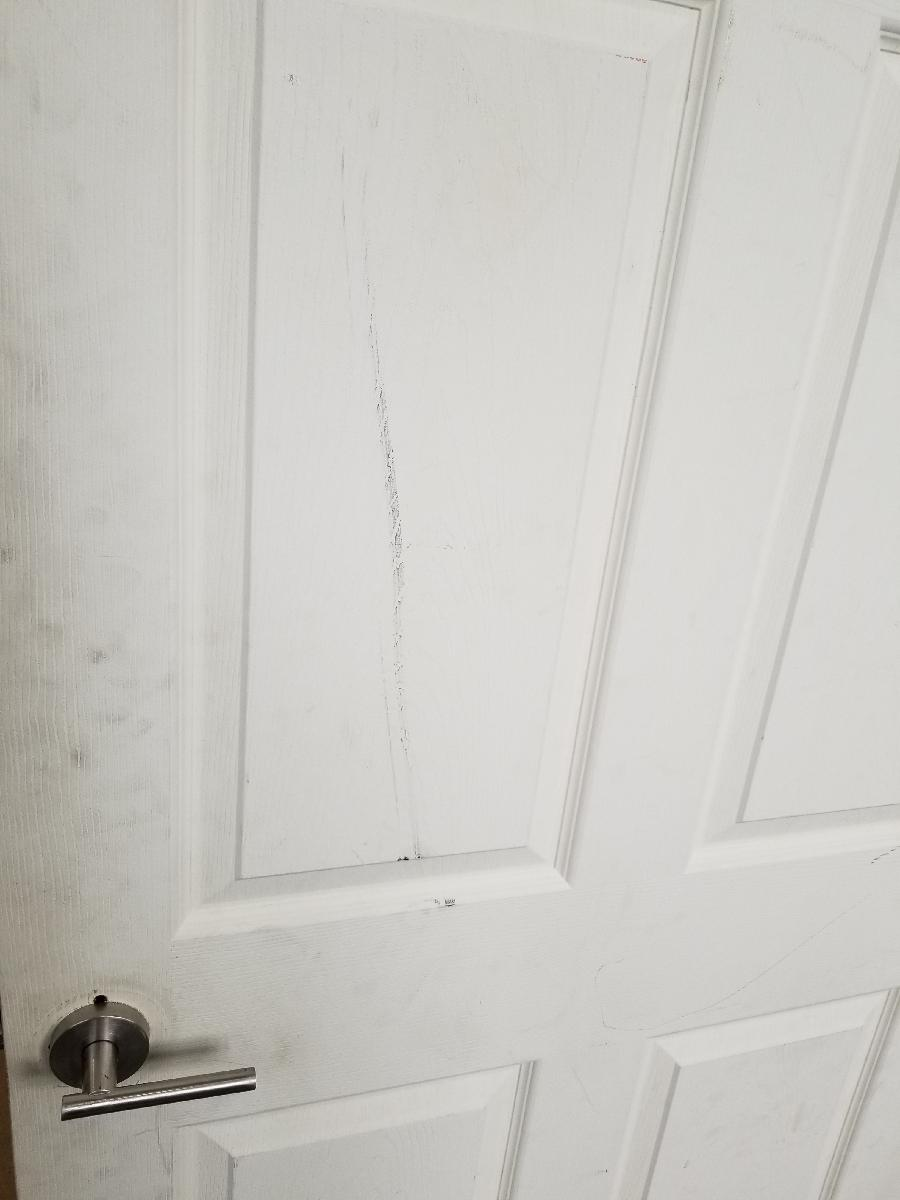doorHandle: (39, 996, 268, 1124)
